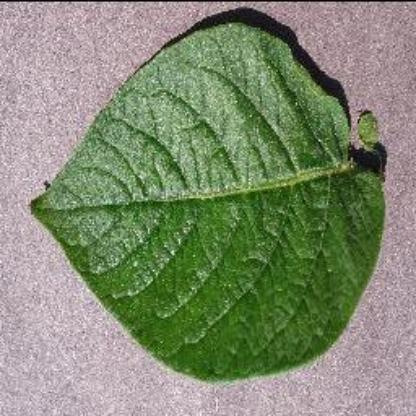Healthy-plant: (26, 15, 388, 387)
